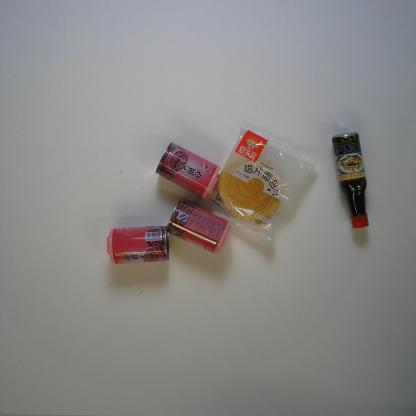Canned Food: (154, 140, 222, 200), (166, 198, 234, 254), (106, 225, 170, 266)
Dessert: (202, 122, 320, 249)
Seasoner: (331, 131, 370, 229)
